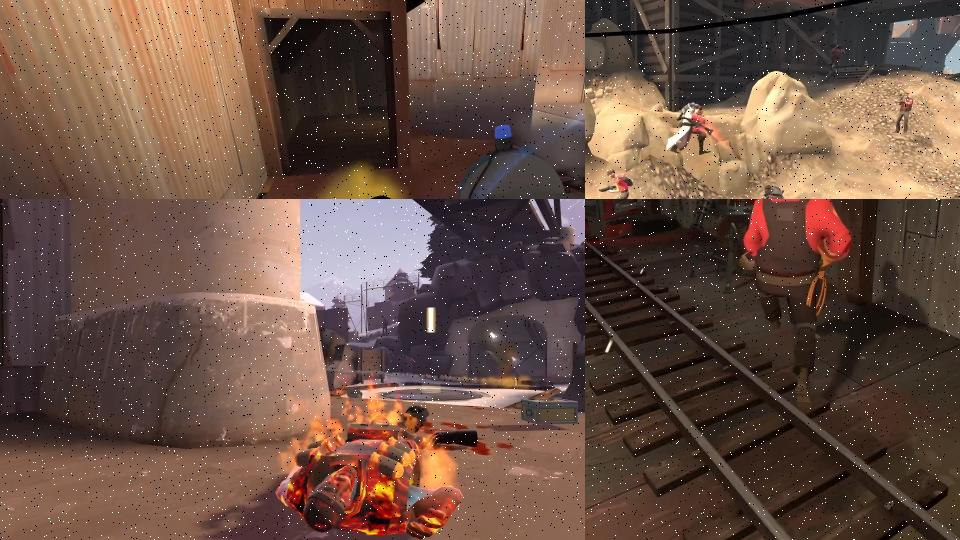Enemy: (732, 199, 863, 424), (283, 422, 463, 540), (665, 102, 715, 157), (597, 168, 640, 199), (742, 181, 797, 199), (892, 92, 914, 135), (830, 43, 847, 75)
